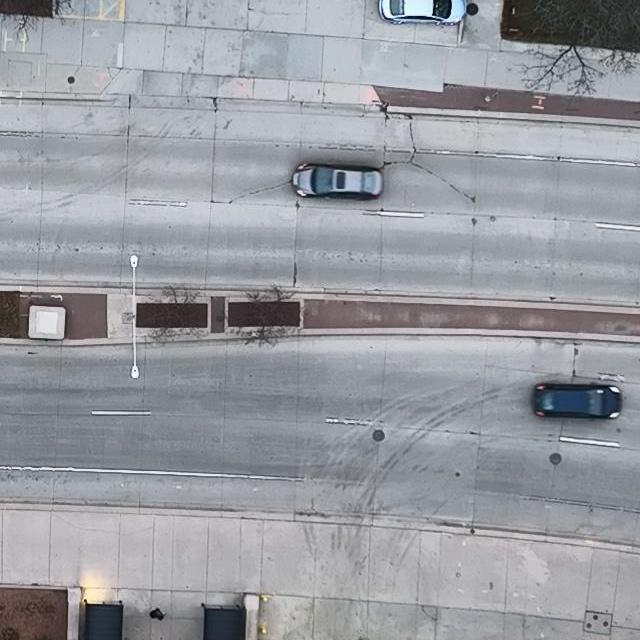car: (292, 162, 385, 201), (532, 382, 623, 421), (378, 0, 467, 25)
